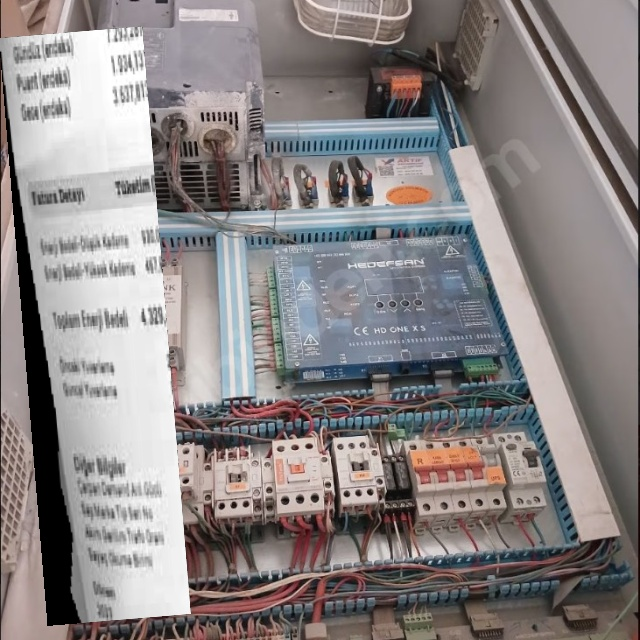electricity-bill: (0, 26, 191, 626)
